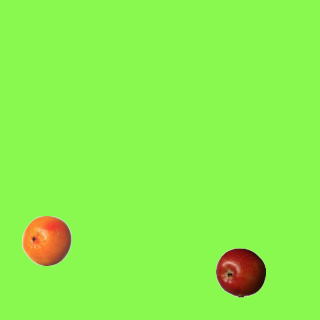Apple Braeburn: (215, 247, 265, 297)
Grapefruit Pink: (21, 215, 71, 265)
